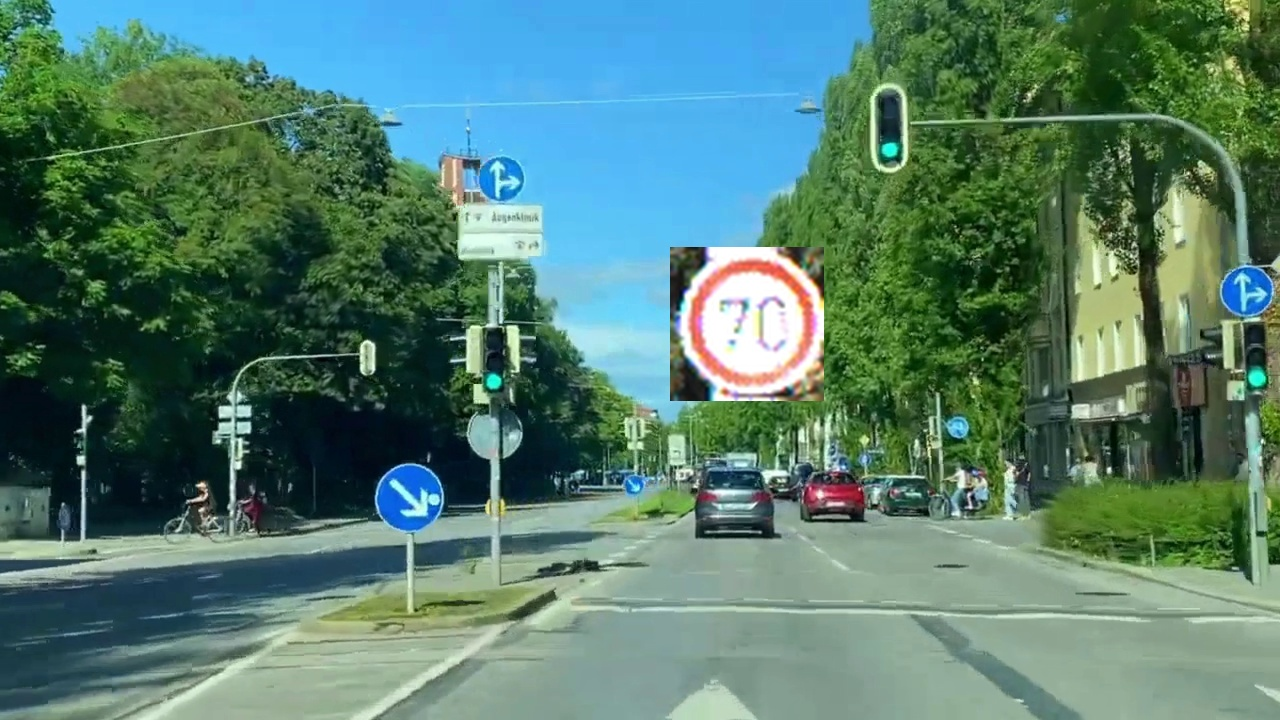Speed 70: (670, 247, 824, 401)
